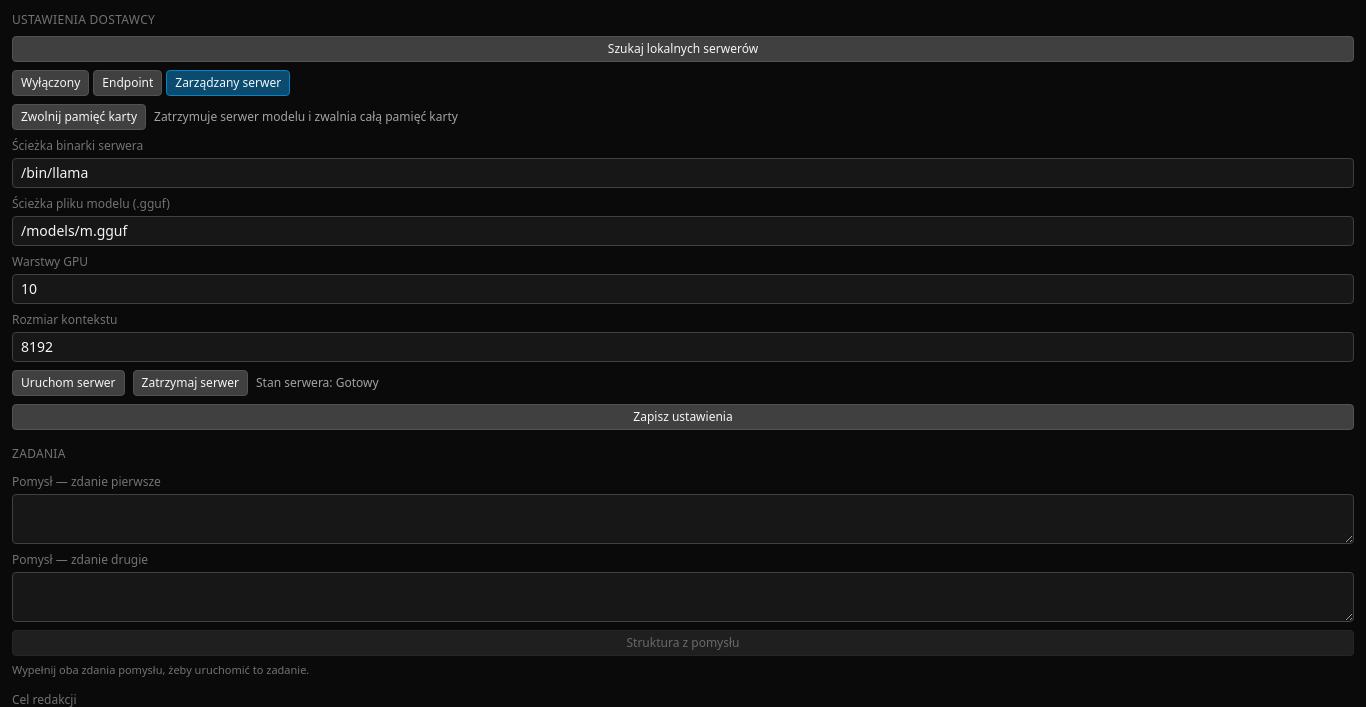
Test case: LlmPanel — przycisk zwolnienia pamięci karty, tryb zarządzany › udane zwolnienie woła trasę, pokazuje potwierdzenie i pokazuje serwer jako zatrzymany
Check: the text "Stan serwera: Gotowy" is shown, box left=256, top=375, right=379, bottom=391
Click the button "Zwolnij pamięć karty".
click(79, 117)  # box left=12, top=104, right=146, bottom=130
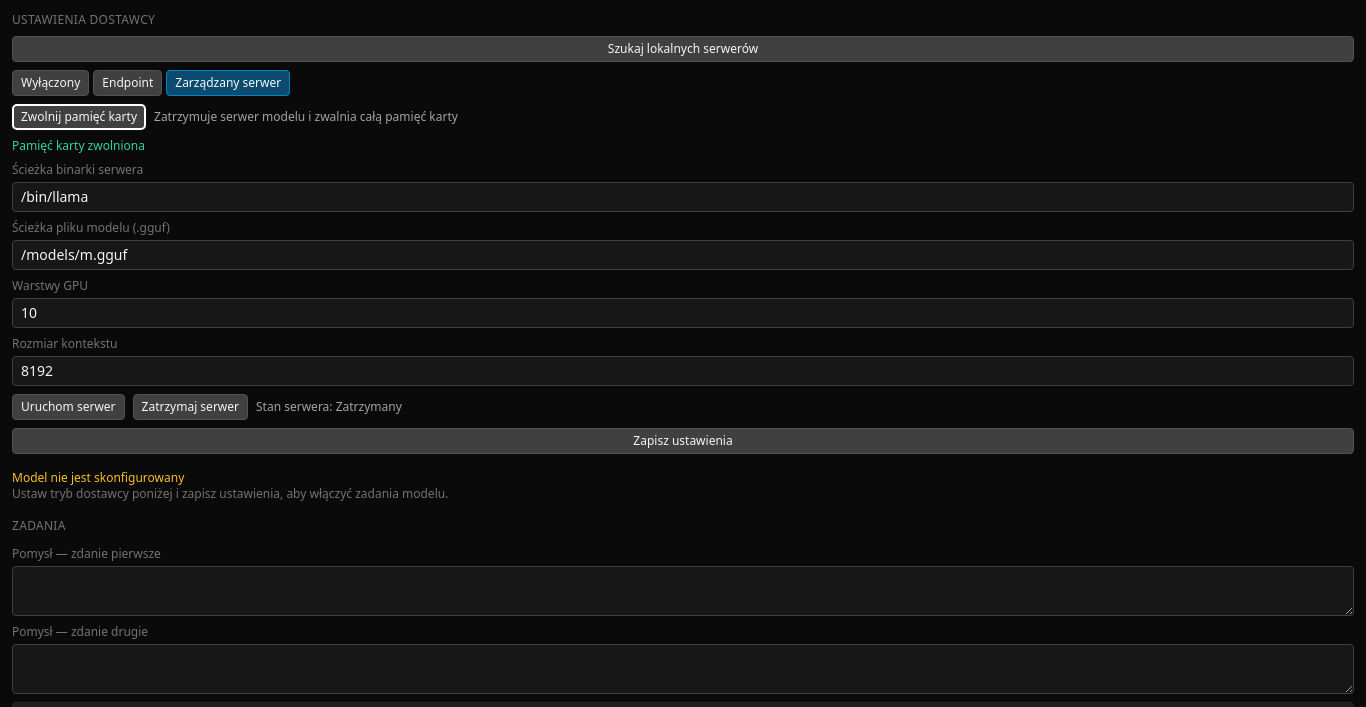
Check: the text "Pamięć karty zwolniona" is shown, box left=12, top=137, right=145, bottom=154
Check: the text "Stan serwera: Zatrzymany" is shown, box left=256, top=399, right=402, bottom=415
